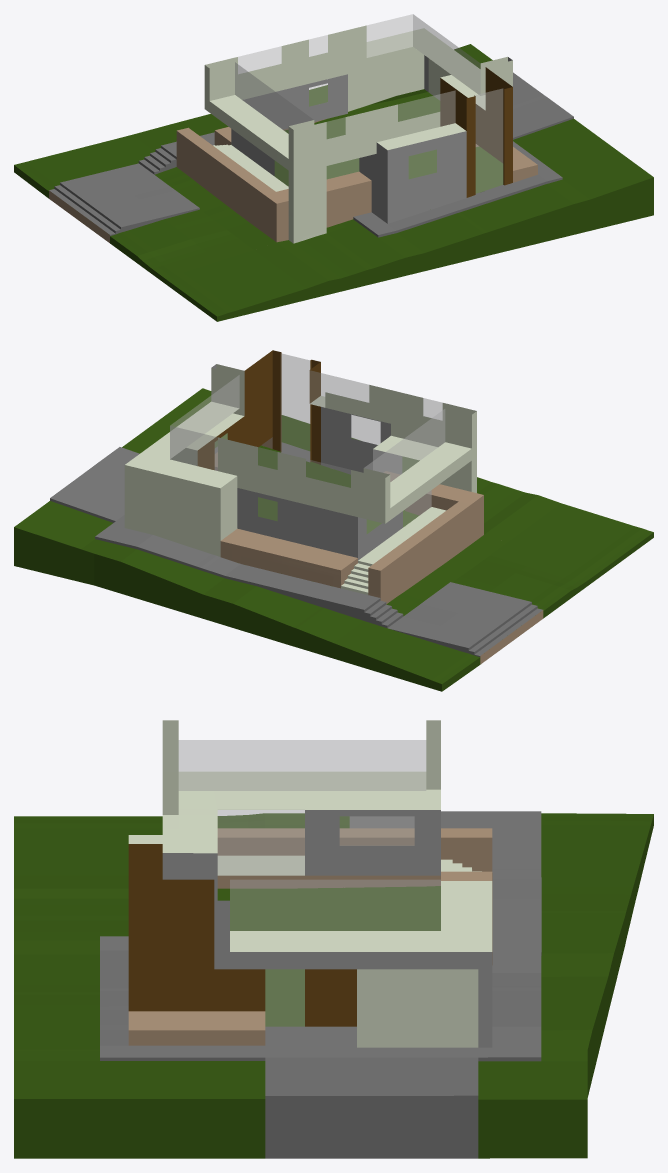
The model's file is casaClim_1ST-FLOOR.glb.
3 renders of one model, top to bottom at view 1: azimuth 30°, elevation 25°; view 2: azimuth 150°, elevation 25°; view 3: azimuth 270°, elevation 25°, orthographic. The views are drawn at different scales.
Visible parts, largest first — view 1: Plane; view 2: Plane; view 3: Plane.
Boxes of the visible parts, x1=… form: Plane: x1=14, y1=14, x2=653, y2=321; Plane: x1=14, y1=350, x2=653, y2=691; Plane: x1=14, y1=720, x2=653, y2=1158.
Bounding box in the file's own units: 27.7 × 7.7 × 22.42.
